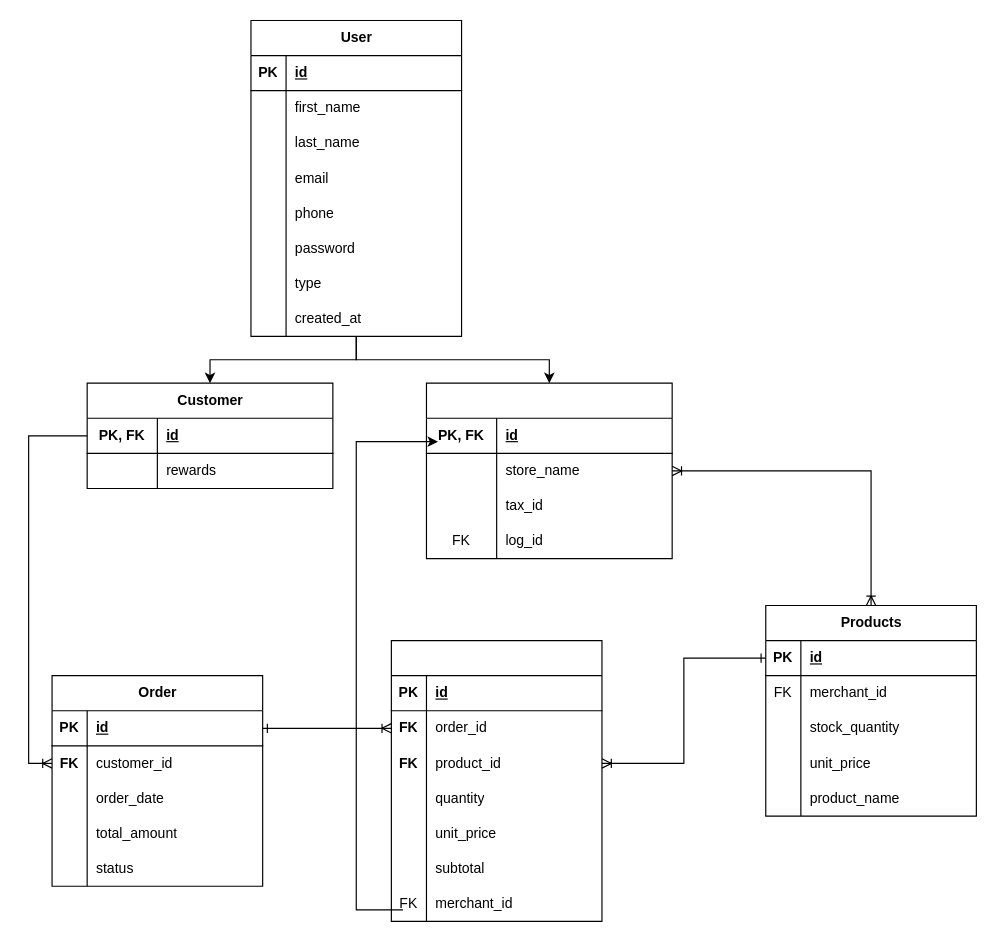
Some shapes in this 997 by 942 pixel diagram are drawn without their labels. Here are the shapes that lost their labels. From the top down, the box of each, then its label:
(425, 382, 672, 559): Merchant
(390, 639, 602, 921): OrderItems
